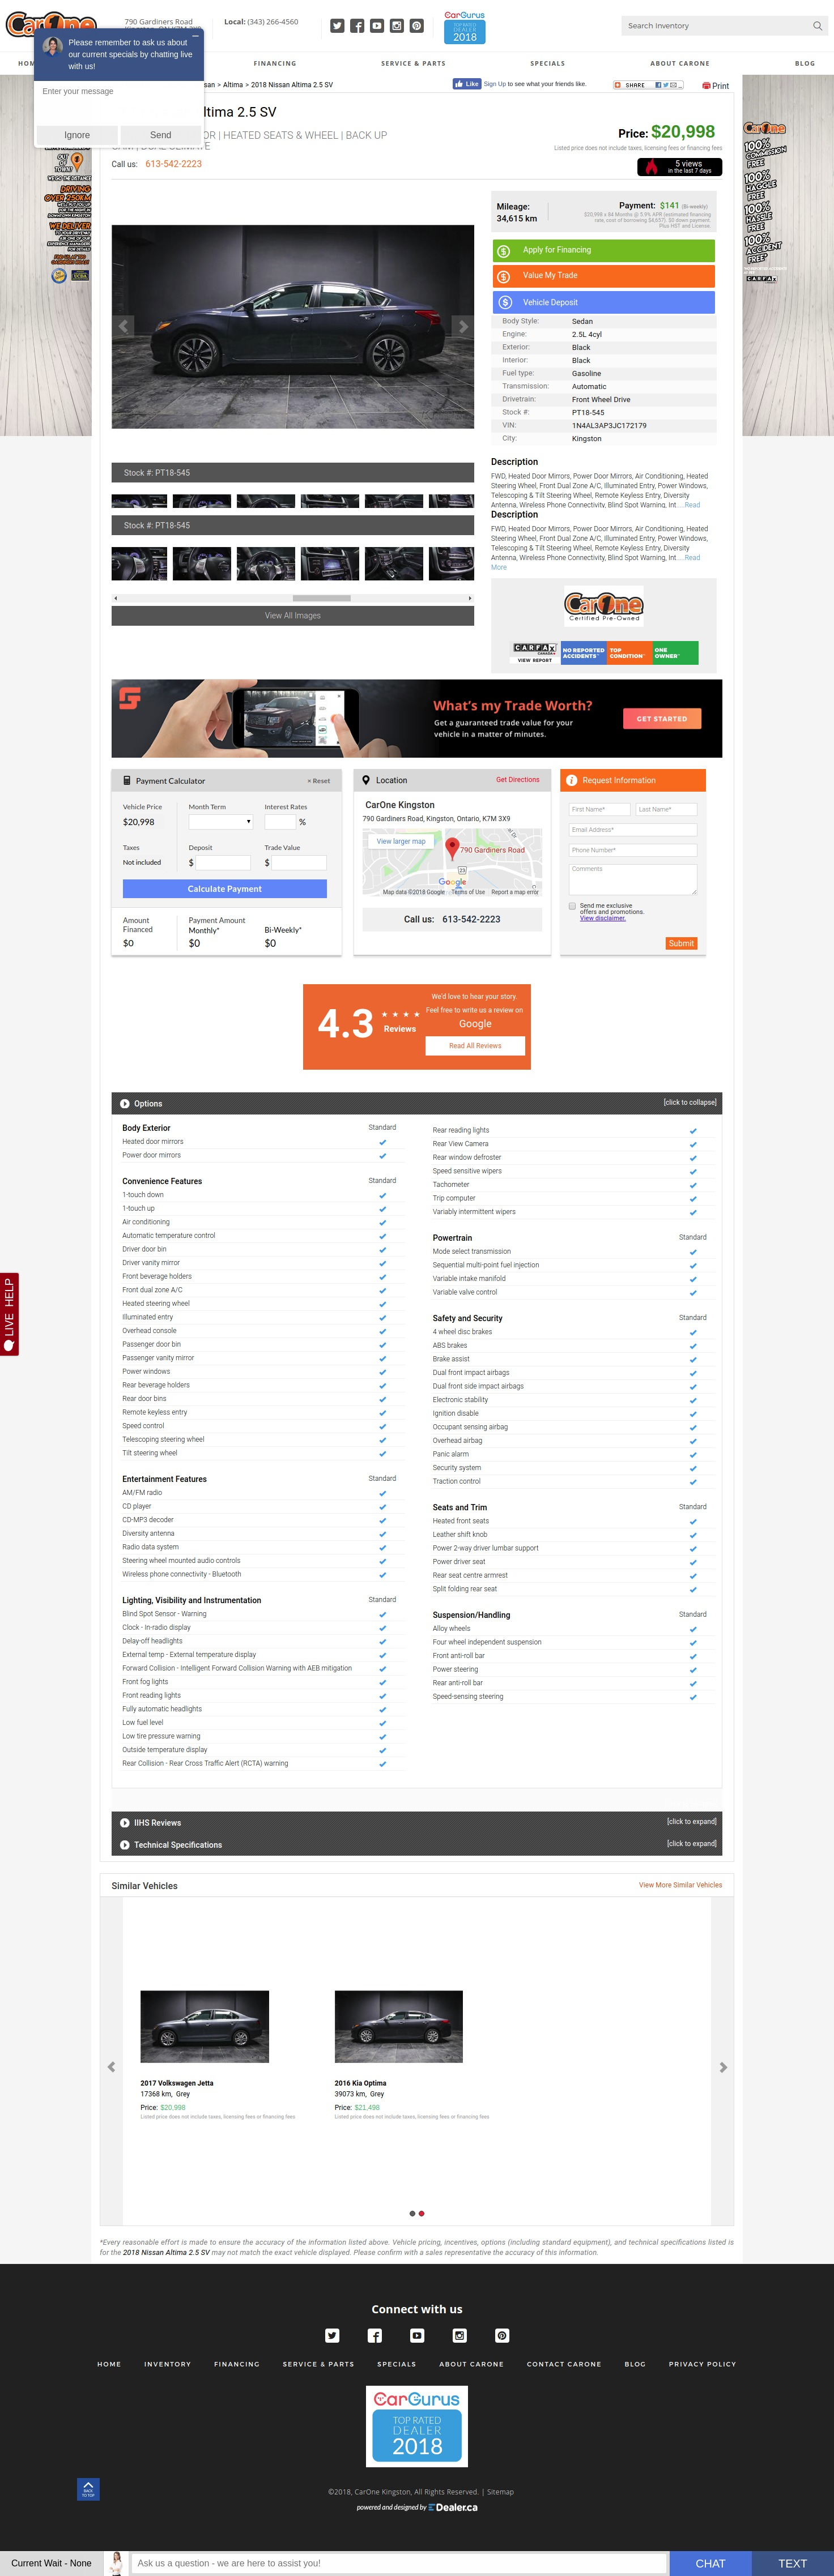car: (469, 596, 472, 601)
